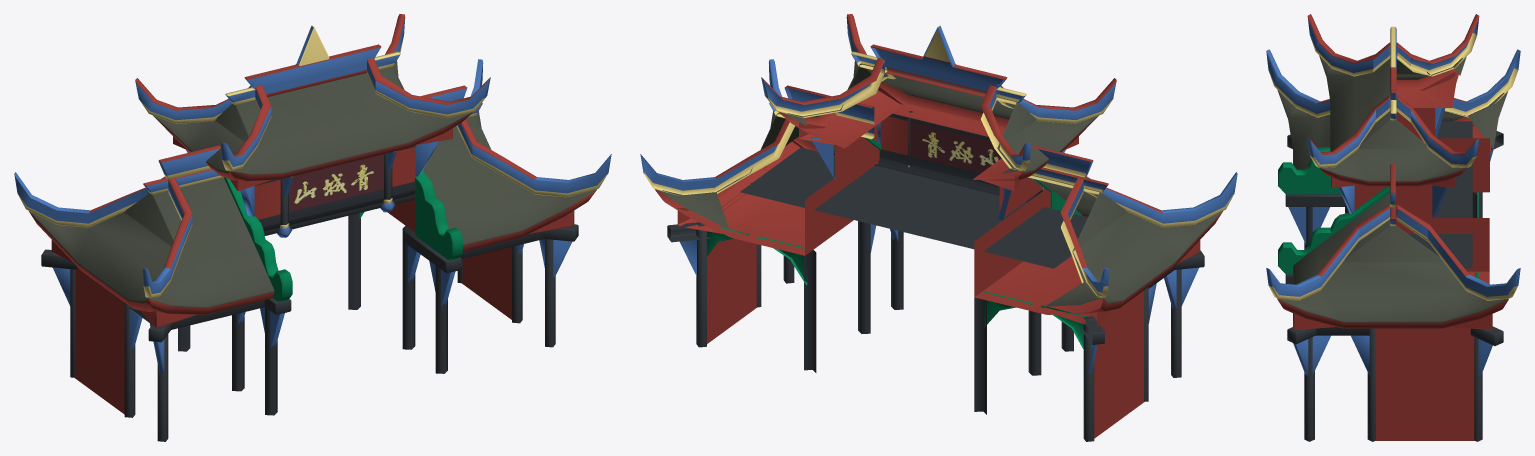
Rendered from QingChengShan.fbx.
The picture shows the model from 3 angles, left to right: view 1: azimuth 30°, elevation 25°; view 2: azimuth 150°, elevation 25°; view 3: azimuth 270°, elevation 25°; orthographic projection. The views are drawn at different scales.
Parts seen in each view (by area): view 1: QingChengShan; view 2: QingChengShan; view 3: QingChengShan.
Boxes of the visible parts, left/top/right/bottom form: QingChengShan: left=14, top=14, right=611, bottom=441; QingChengShan: left=640, top=14, right=1237, bottom=441; QingChengShan: left=1266, top=14, right=1520, bottom=441.
Bounding box in the file's own units: 24.05 × 16.44 × 11.77.
